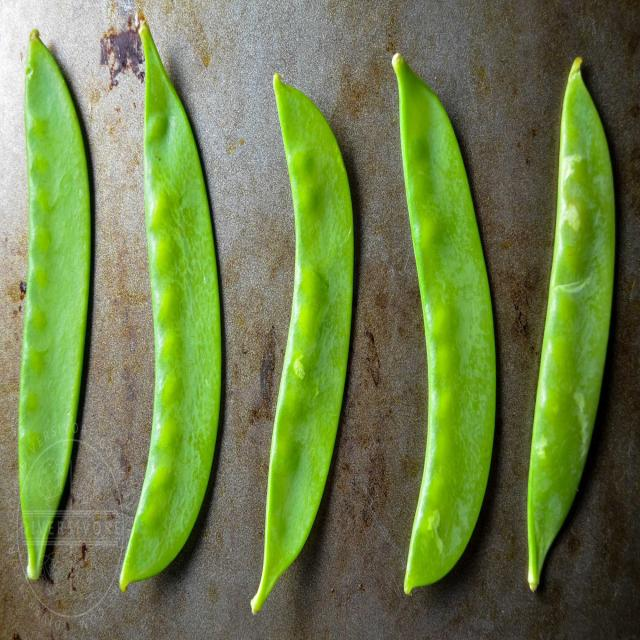Peas: (116, 15, 225, 598), (250, 71, 355, 615), (393, 50, 498, 593), (525, 58, 616, 590), (15, 28, 93, 579)
